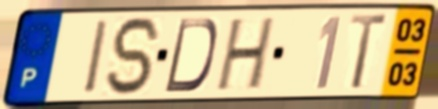1: (315, 13, 343, 92)
D: (161, 17, 220, 95)
H: (213, 14, 279, 95)
I: (82, 17, 111, 97)
S: (104, 14, 165, 99)
T: (346, 12, 391, 93)
